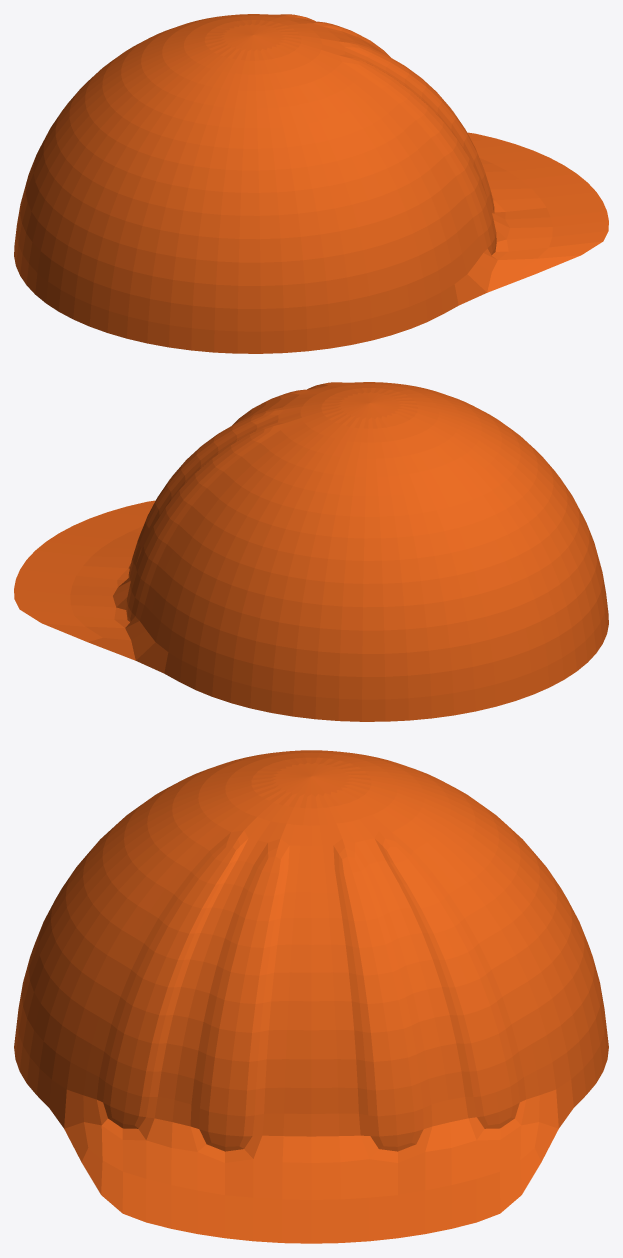
Rendered from kask.gltf.
3 views of the same model, one above another, from view 1: azimuth 30°, elevation 25°; view 2: azimuth 150°, elevation 25°; view 3: azimuth 270°, elevation 25° (orthographic). The views are drawn at different scales.
Parts seen in each view (by area): view 1: Сфера; view 2: Сфера; view 3: Сфера.
Part boxes in pixels (<box>): Сфера: <box>14,14,608,353</box>; Сфера: <box>14,382,608,721</box>; Сфера: <box>14,750,608,1243</box>.
Size of the model in its own units: 2.55 by 0.9976 by 1.99.
